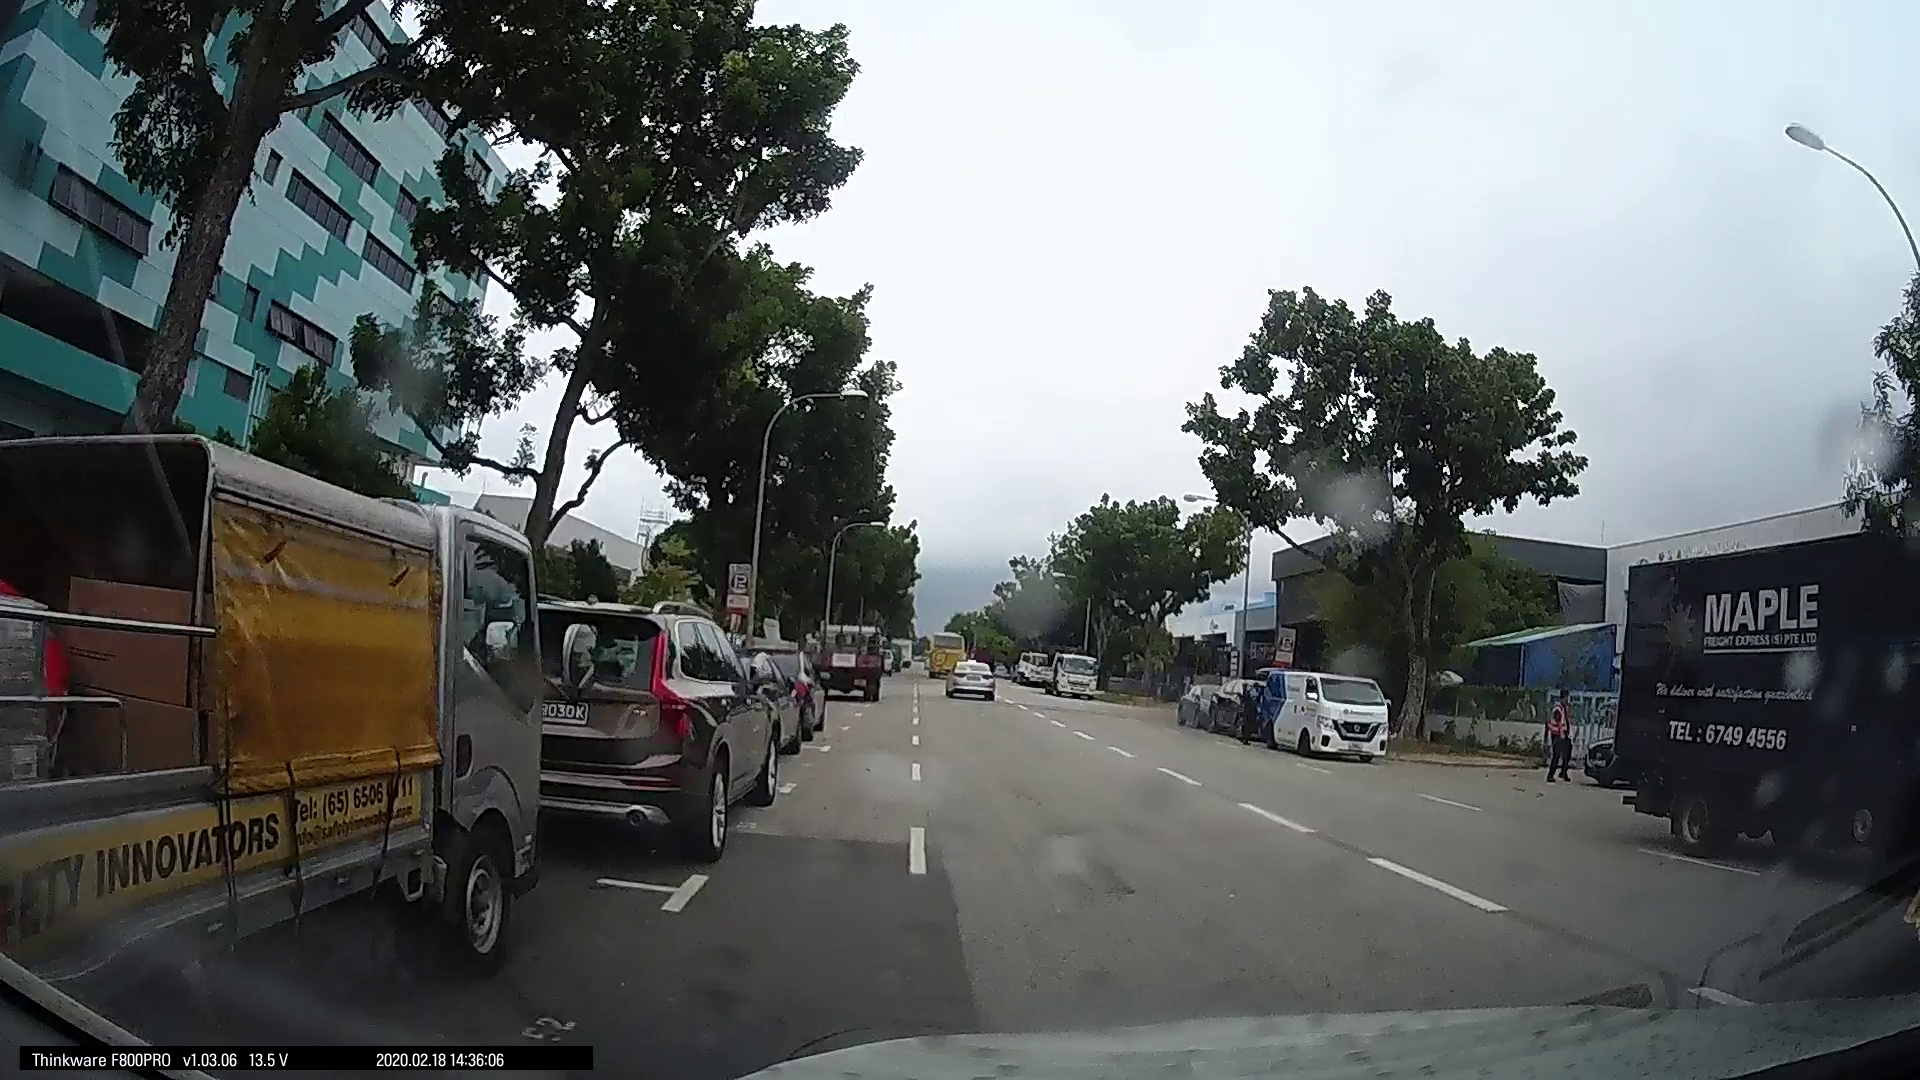Heavy Vehicle: (5, 411, 564, 1001), (1607, 534, 1912, 873)
Light Vehicle: (501, 592, 781, 857), (1261, 665, 1389, 762), (746, 638, 815, 749), (1040, 646, 1098, 696), (942, 655, 994, 700)
